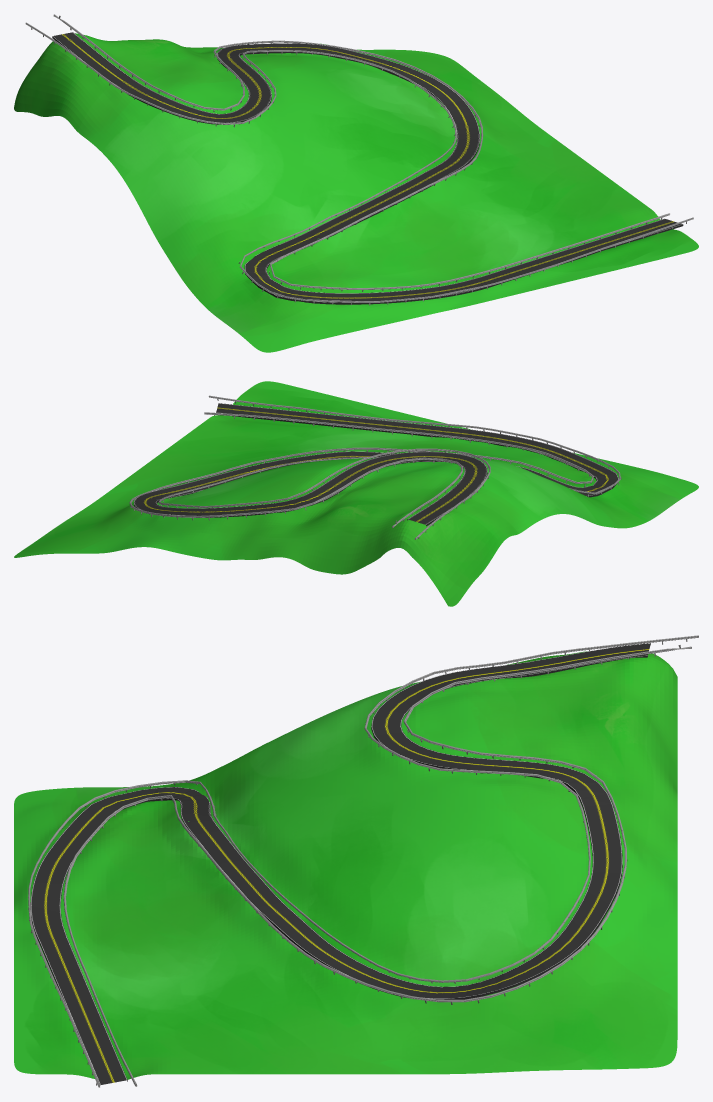
Rendered from pista_v2.fbx.
3 views of the same model, one above another, from view 1: azimuth 30°, elevation 25°; view 2: azimuth 150°, elevation 25°; view 3: azimuth 270°, elevation 25° (orthographic). The views are drawn at different scales.
Parts seen in each view (by area): view 1: Grid, Plane.001, Cube.001, Cube; view 2: Grid, Plane.001, Cube, Cube.001; view 3: Grid, Plane.001, Cube, Cube.001.
Boxes of the visible parts, <box> form: Grid: <box>14,33,698,352</box>; Plane.001: <box>52,32,683,304</box>; Cube.001: <box>25,22,693,305</box>; Cube: <box>53,14,669,291</box>; Grid: <box>14,381,698,606</box>; Plane.001: <box>134,403,618,526</box>; Cube: <box>129,412,593,527</box>; Cube.001: <box>158,395,621,539</box>; Grid: <box>14,651,677,1079</box>; Plane.001: <box>30,643,650,1085</box>; Cube: <box>63,645,691,1086</box>; Cube.001: <box>28,635,698,1087</box>.
Bounding box in the file's own units: 4717 × 1423 × 4646.
